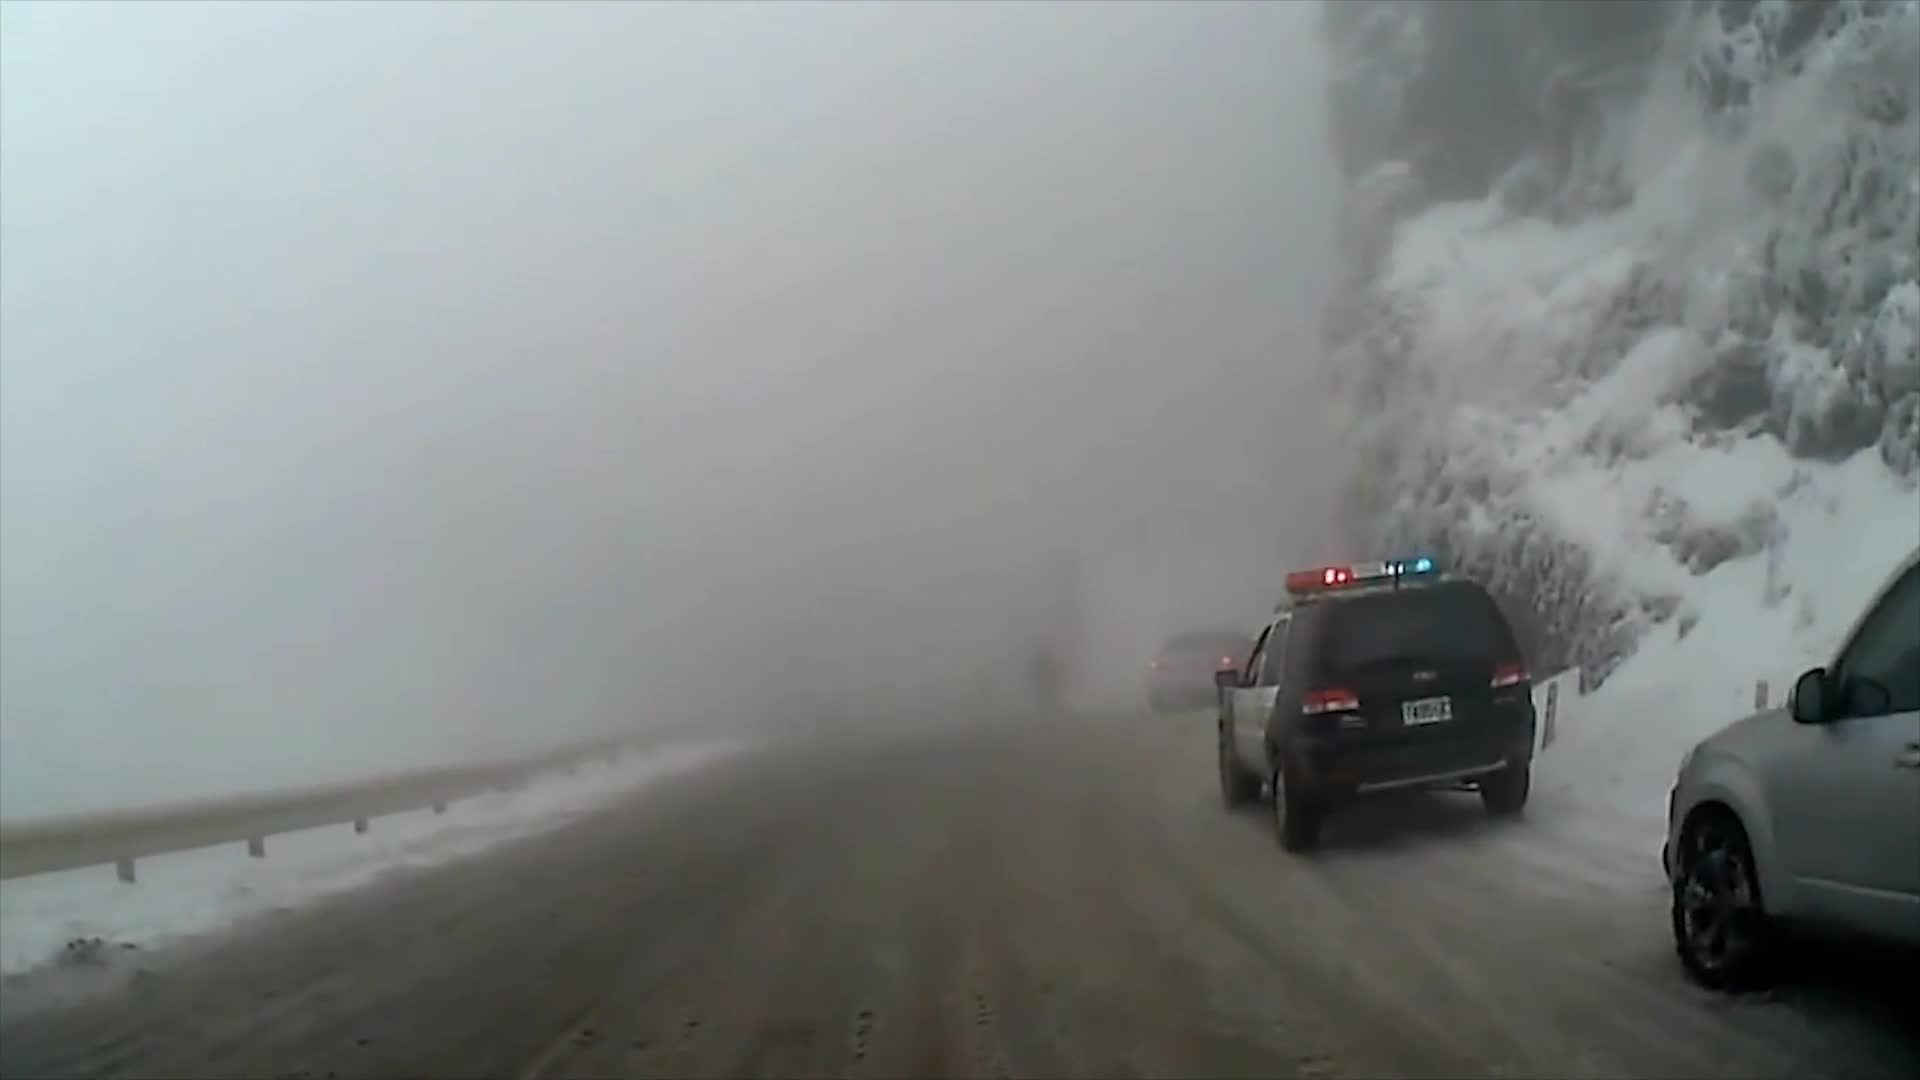vehicle: (1658, 541, 1919, 997), (1213, 553, 1538, 855), (1145, 626, 1261, 713)
